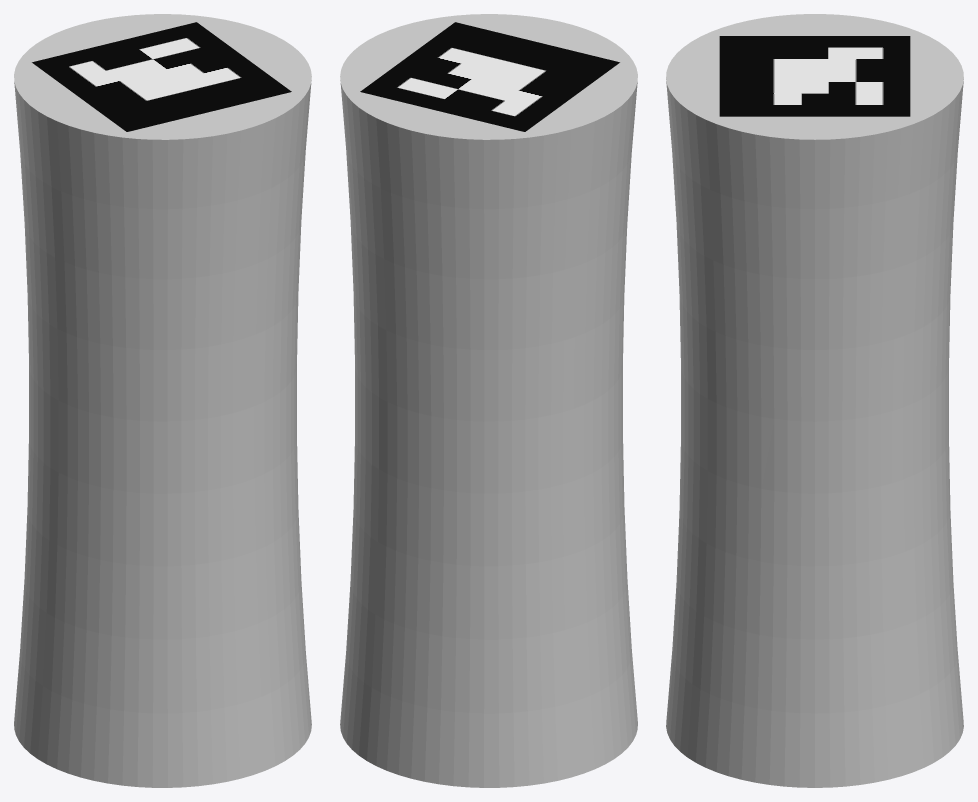
File: large_vase_2.dae
3 views of the same model, side by side, from view 1: azimuth 30°, elevation 25°; view 2: azimuth 150°, elevation 25°; view 3: azimuth 270°, elevation 25° (orthographic).
Parts seen in each view (by area): view 1: 平面; view 2: 平面; view 3: 平面.
Boxes of the visible parts, x1,y1,x2,y2 form: 平面: (14,14,311,787); 平面: (340,14,637,787); 平面: (666,14,963,787).
Size of the model in its own units: 0.05 by 0.05 by 0.12.
2 materials, 1 textured.
